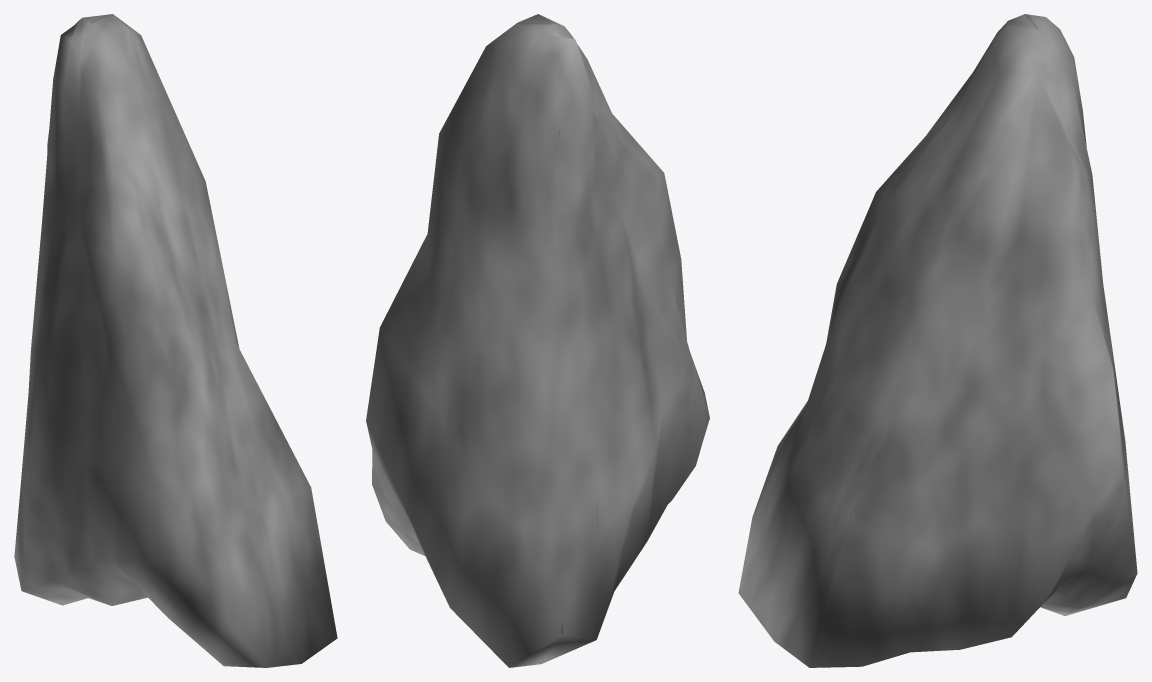
The model's file is spiky rock.fbx.
The picture shows the model from 3 angles, left to right: view 1: azimuth 30°, elevation 25°; view 2: azimuth 150°, elevation 25°; view 3: azimuth 270°, elevation 25°; orthographic projection. The views are drawn at different scales.
Visible parts, largest first — view 1: triRock_low; view 2: triRock_low; view 3: triRock_low.
Boxes of the visible parts, x1,y1,x2,y2 form: triRock_low: (14,14,337,667); triRock_low: (366,14,709,667); triRock_low: (738,14,1137,667).
Bounding box in the file's own units: 188 × 481 × 287.
